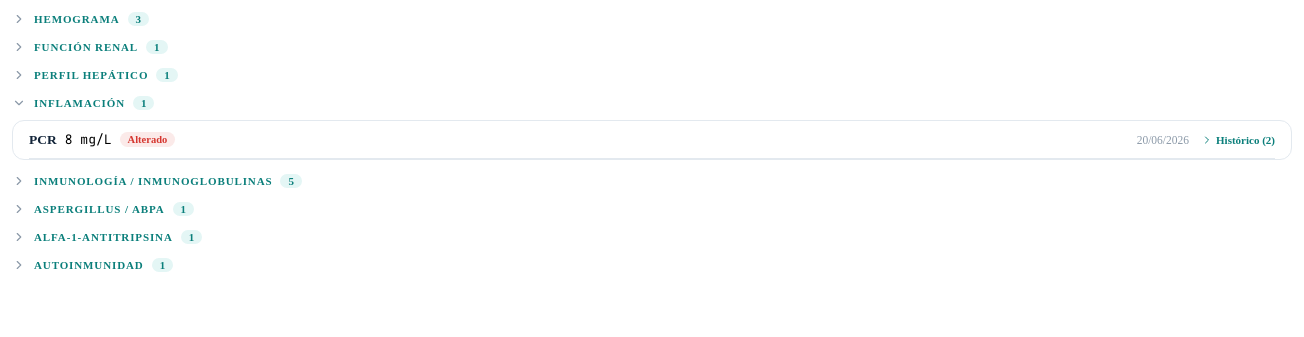
AnalyticsTab › PCR tiene histórico (2 determinaciones) y se expande para mostrar ambas fechas y valores, sin inventar un veredicto de mejoría/empeoramiento
Expected: the text "8 mg/L" is shown, [65,131,112,148]
Expected: the text "95 mg/L" is not shown
Click the button "Histórico (2)".
click(1238, 140)  # box [1201,134,1275,146]
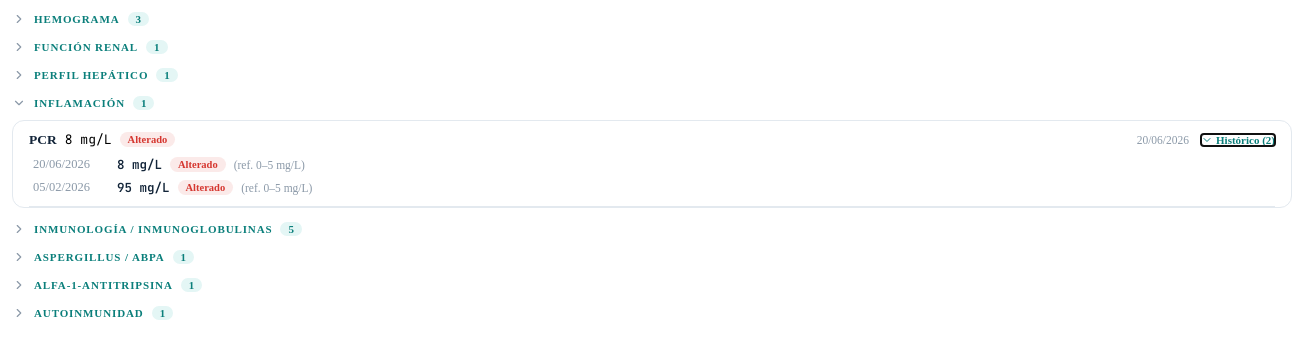
Expected: the text "95 mg/L" is shown, [117,179,170,196]
